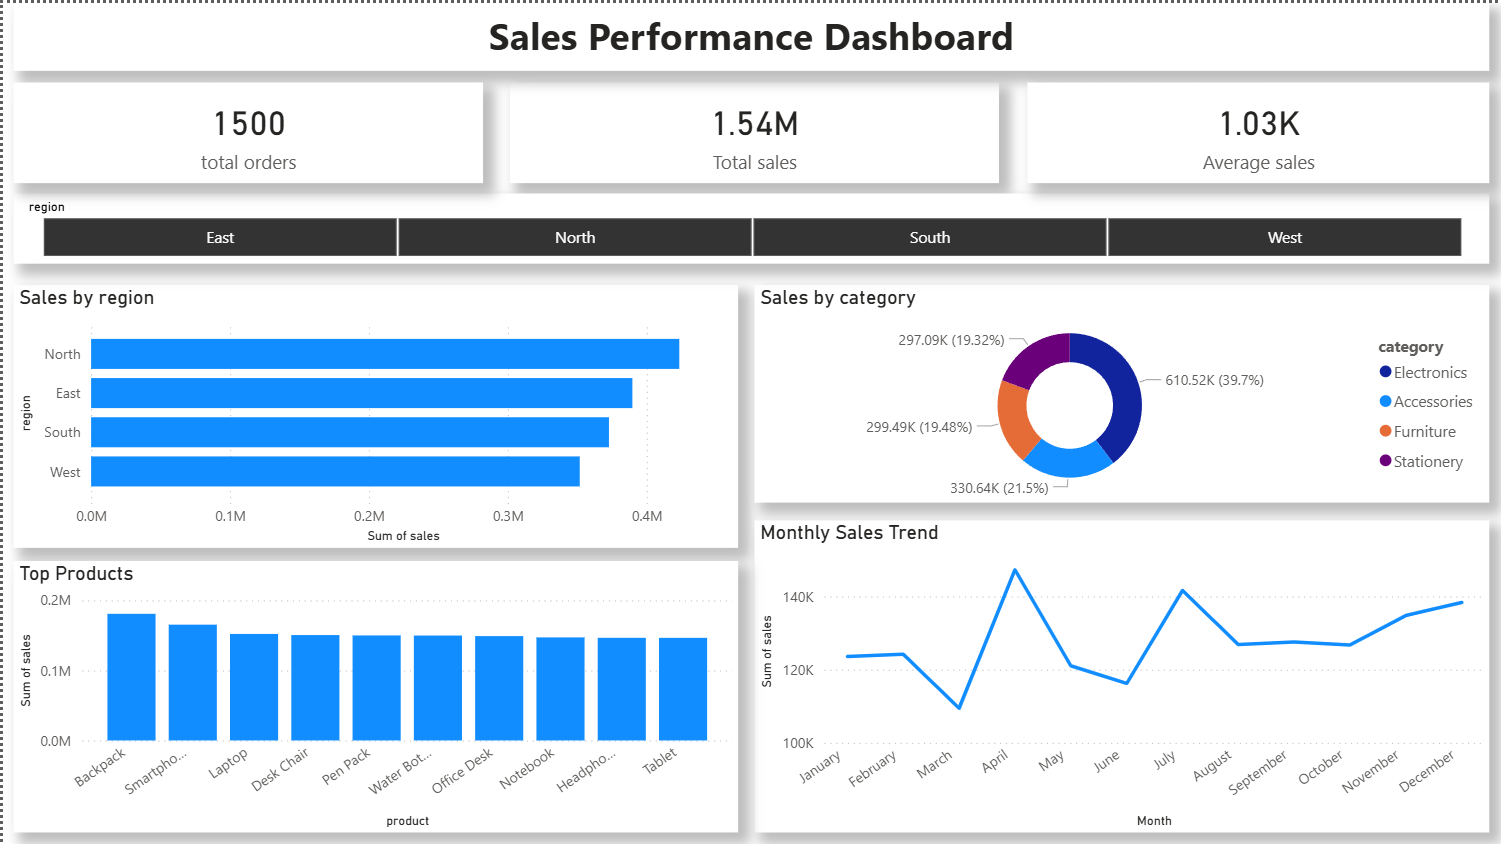

What the dashboard file says about the page in this screenshot:
{"tool":"powerbi","page":{"name":"Page 1","canvas":[1280,720],"ordinal":0},"visuals":[{"type":"card","fields":{"Values":["sales_data.Total sales"]},"box":[433.3,67.9,417.9,85.9],"z":0},{"type":"clusteredBarChart","title":"Sales by region","fields":{"Category":["sales_data.region"],"Y":["Sum(sales_data.sales)"]},"box":[9,241,619.2,224.4],"z":1000},{"type":"donutChart","title":"Sales by category","fields":{"Category":["sales_data.category"],"Y":["Sum(sales_data.sales)"]},"box":[642.3,241,628.2,185.9],"z":2000},{"type":"lineChart","title":"Monthly Sales Trend","fields":{"Category":["sales_data.date.Variation.Date Hierarchy.Month"],"Y":["Sum(sales_data.sales)"]},"box":[642.3,442.3,628.2,266.7],"z":3000},{"type":"columnChart","title":"Top Products","fields":{"Category":["sales_data.product"],"Y":["Sum(sales_data.sales)"]},"box":[9,476.9,619.2,232.1],"z":3001},{"type":"slicer","fields":{"Values":["sales_data.region"]},"box":[9,162.8,1261.5,60.3],"z":3002},{"type":"textbox","box":[9,0,1261.5,57.7],"z":3003},{"type":"card","fields":{"Values":["sales_data.total orders"]},"box":[9,67.9,401.3,85.9],"z":3004},{"type":"card","fields":{"Values":["sales_data.Average sales"]},"box":[875.6,67.9,394.9,85.9],"z":3005}]}

Visuals, with their boxes in screenshot pixels (x1, y1, x2, y2), scaled from the page's 1280x720 canvas onto the 1501x844 screenshot:
card - sales_data.Total sales: box(508, 80, 998, 180)
"Sales by region" clusteredBarChart: box(11, 283, 737, 546)
"Sales by category" donutChart: box(753, 283, 1490, 500)
"Monthly Sales Trend" lineChart: box(753, 518, 1490, 831)
"Top Products" columnChart: box(11, 559, 737, 831)
slicer - sales_data.region: box(11, 191, 1490, 262)
textbox: box(11, 0, 1490, 68)
card - sales_data.total orders: box(11, 80, 481, 180)
card - sales_data.Average sales: box(1027, 80, 1490, 180)
